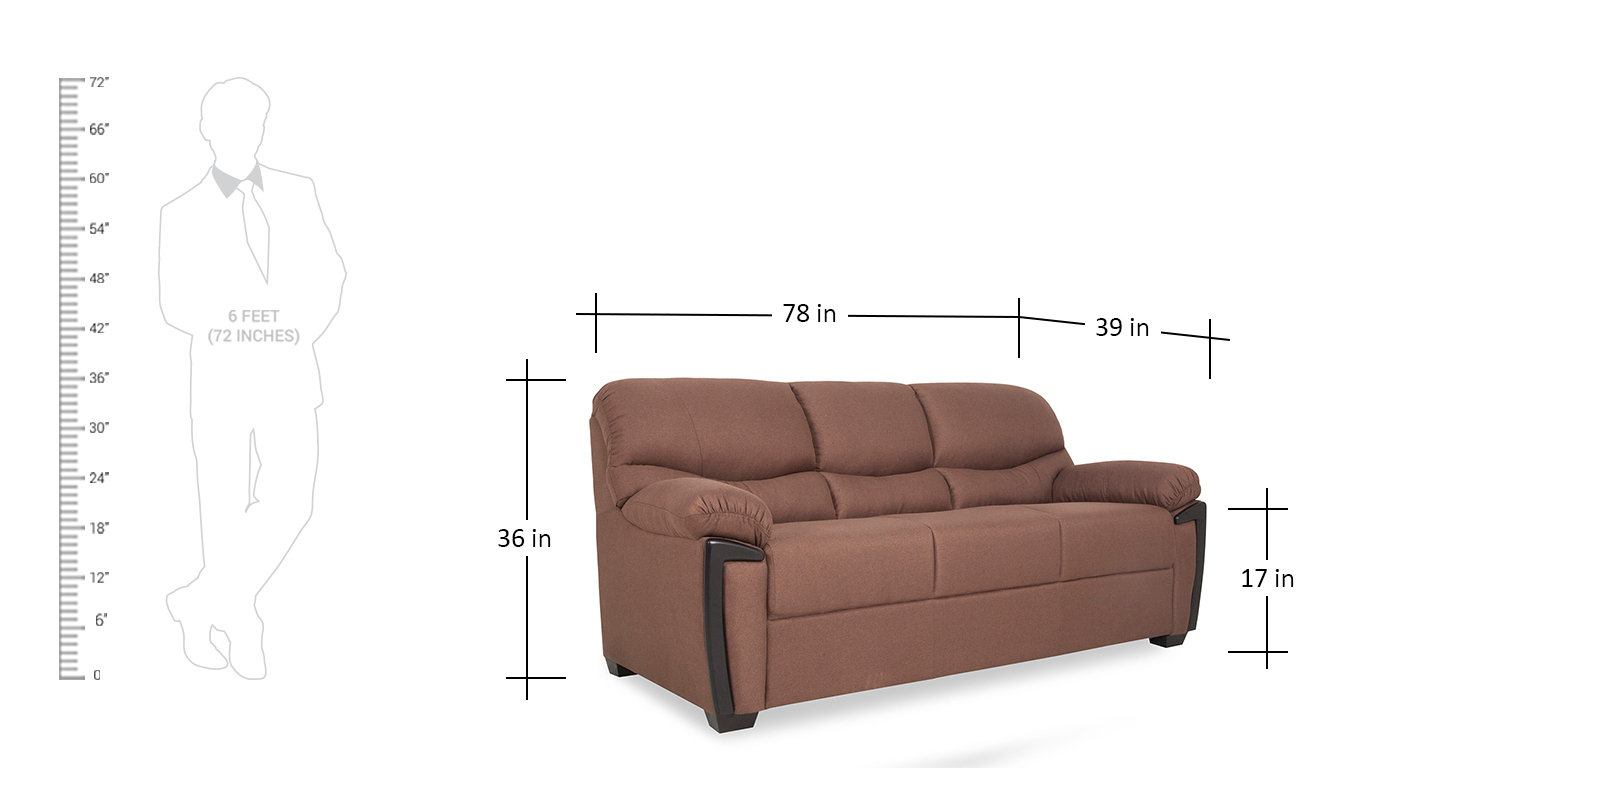Memphis Monarch Three Seater Sofa in Dark Brown Colour by Urban Living: (589, 378, 1207, 734)
